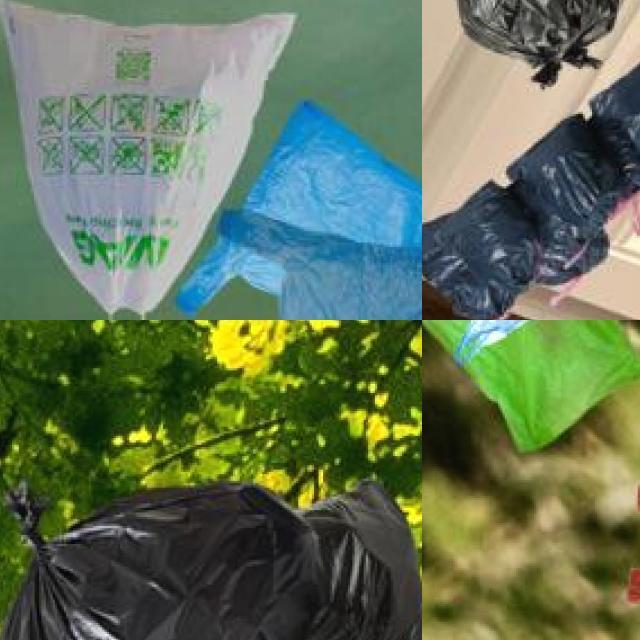waste: (0, 2, 288, 316), (0, 488, 316, 640), (422, 320, 640, 448), (194, 213, 422, 320), (284, 486, 422, 640), (516, 112, 626, 281), (422, 177, 538, 320), (437, 0, 631, 66), (422, 320, 593, 393), (592, 51, 640, 175)
